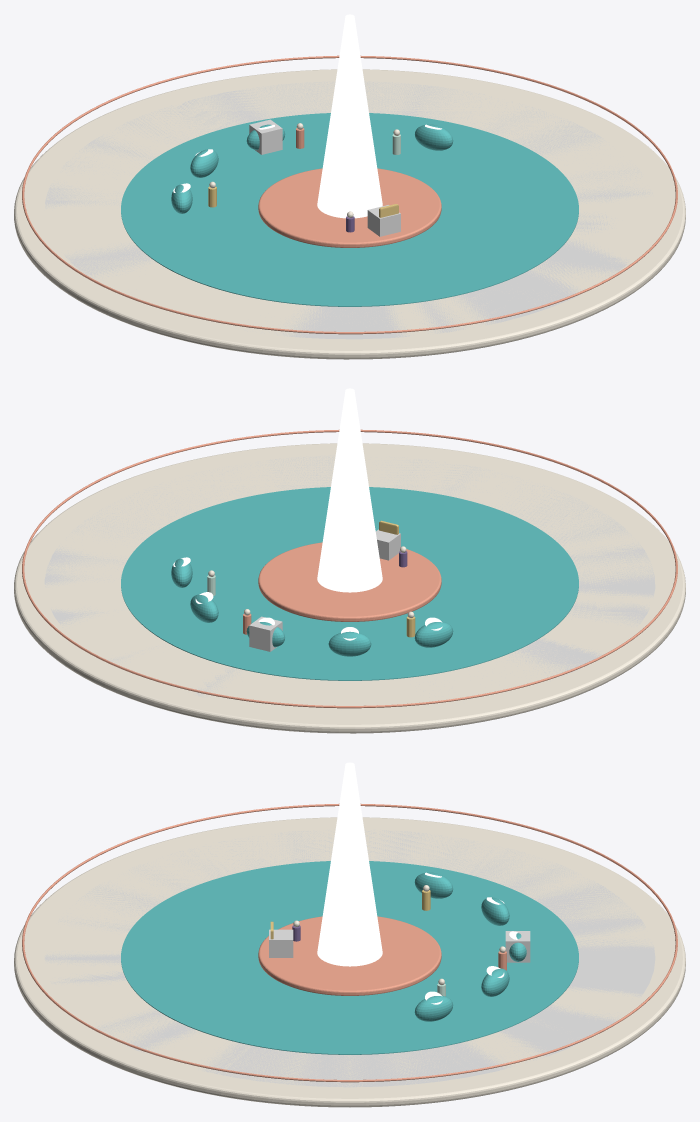
File: play_bridge.glb
The picture shows the model from 3 angles, top to bottom: view 1: azimuth 30°, elevation 25°; view 2: azimuth 150°, elevation 25°; view 3: azimuth 270°, elevation 25°; orthographic projection.
Visible parts, largest first — view 1: deck, inlay, WALK_disc, captain_ring, spire_tip, rail, console_navigation_0, console_0, captain_chair, console_3; view 2: deck, inlay, WALK_disc, captain_ring, spire_tip, rail, console_3, console_4, console_navigation_0, console_1, captain_chair; view 3: deck, inlay, WALK_disc, captain_ring, spire_tip, rail, console_0, console_4, captain_chair, console_1, console_3.
Boxes of the visible parts, x1,y1,x2,y2 form: deck: (14, 69, 685, 359); inlay: (121, 113, 578, 306); WALK_disc: (45, 81, 652, 339); captain_ring: (258, 168, 441, 247); spire_tip: (317, 14, 382, 218); rail: (22, 55, 677, 334); console_navigation_0: (249, 119, 282, 154); console_0: (415, 124, 453, 150); captain_chair: (367, 205, 400, 236); console_3: (190, 149, 218, 177); deck: (14, 443, 685, 733); inlay: (121, 487, 578, 680); WALK_disc: (44, 455, 655, 697); captain_ring: (258, 542, 441, 621); spire_tip: (317, 388, 382, 592); rail: (22, 429, 677, 708); console_3: (328, 631, 371, 656); console_4: (414, 621, 453, 647); console_navigation_0: (249, 616, 282, 651); console_1: (190, 594, 218, 622); captain_chair: (375, 529, 400, 560); deck: (14, 817, 685, 1107); inlay: (121, 861, 578, 1054); WALK_disc: (44, 829, 655, 1087); captain_ring: (258, 916, 441, 995); spire_tip: (317, 762, 382, 966); rail: (22, 803, 677, 1082); console_0: (414, 995, 453, 1021); console_4: (414, 872, 453, 898); captain_chair: (269, 929, 293, 957); console_1: (481, 968, 509, 996); console_3: (481, 897, 509, 925).
Size of the model in its own units: 44 by 14.6 by 44.
